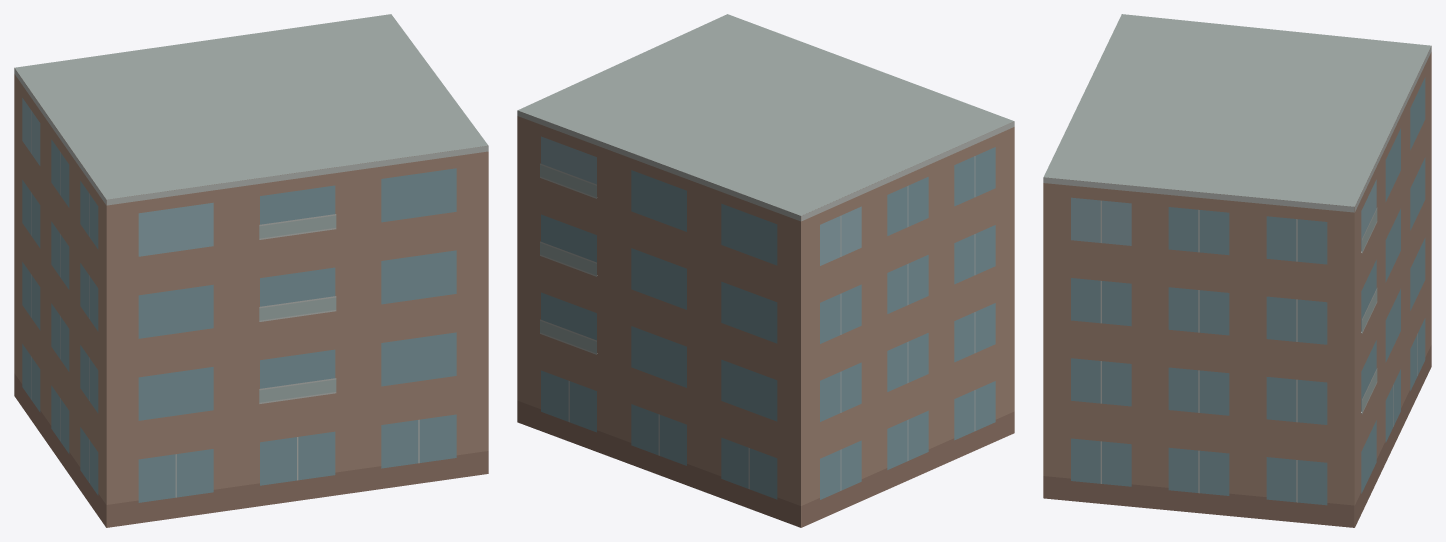
Rendered from survey-upis-32853882.glb.
3 renders of one model, left to right at view 1: azimuth 30°, elevation 25°; view 2: azimuth 150°, elevation 25°; view 3: azimuth 270°, elevation 25°, orthographic. The views are drawn at different scales.
Parts seen in each view (by area): view 1: survey-upis-32853882.tmp; view 2: survey-upis-32853882.tmp; view 3: survey-upis-32853882.tmp.
Part boxes in pixels (<box>): survey-upis-32853882.tmp: <box>14,14,488,527</box>; survey-upis-32853882.tmp: <box>517,14,1014,527</box>; survey-upis-32853882.tmp: <box>1043,14,1431,527</box>.
Bounding box in the file's own units: 17.53 × 13.6 × 14.91.
